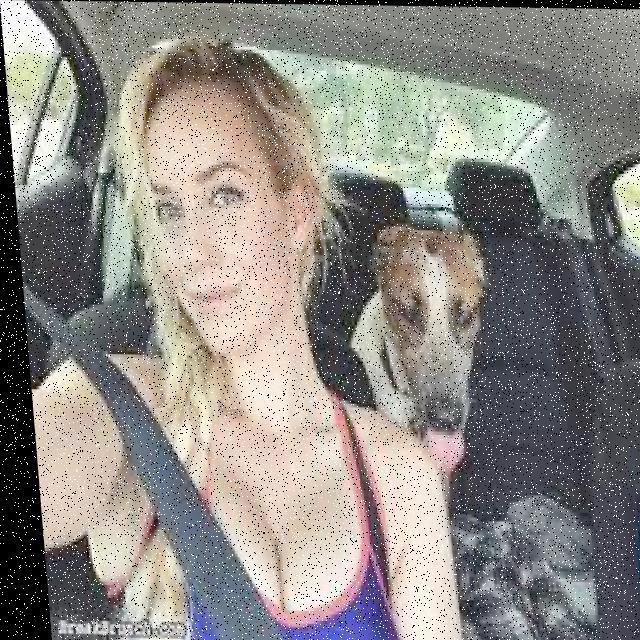seatbelt: (21, 323, 452, 640)
